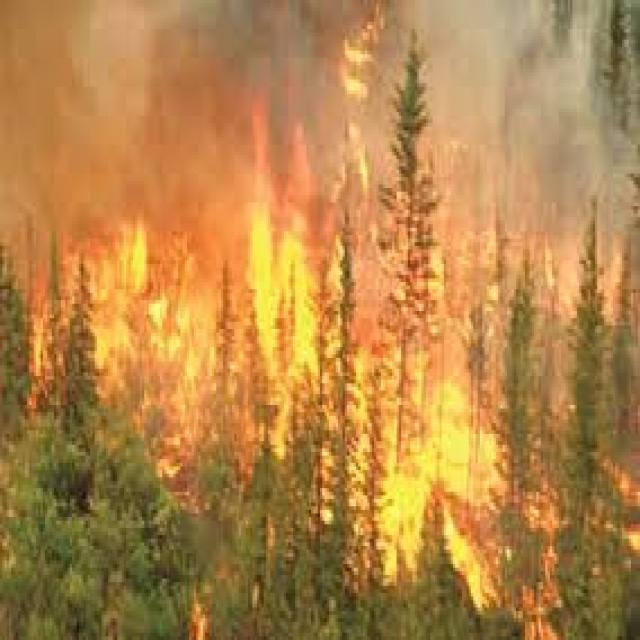Fire: (42, 103, 638, 605)
Smoke: (6, 4, 330, 237), (423, 7, 640, 231)
